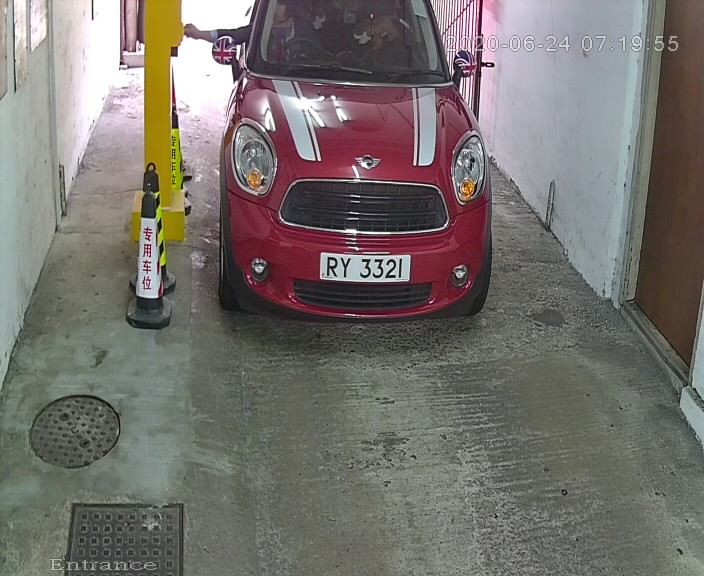privatecar: (195, 2, 505, 338)
